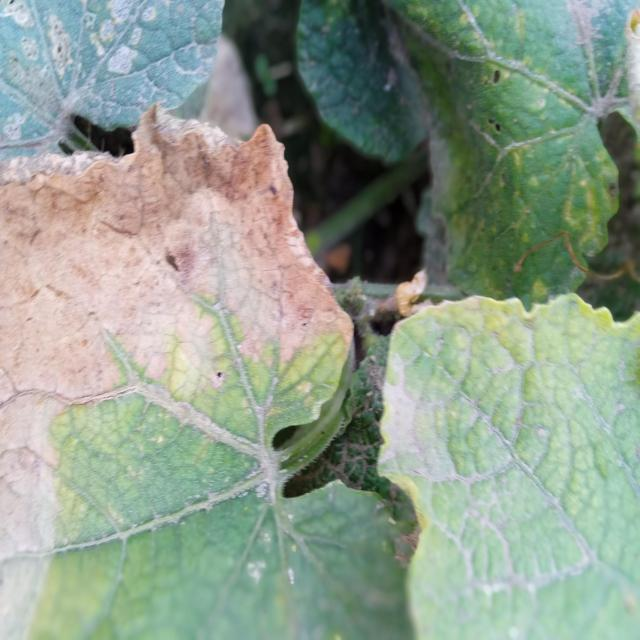cucumber_gummy: (0, 96, 442, 640), (365, 273, 640, 640), (0, 0, 248, 115)
